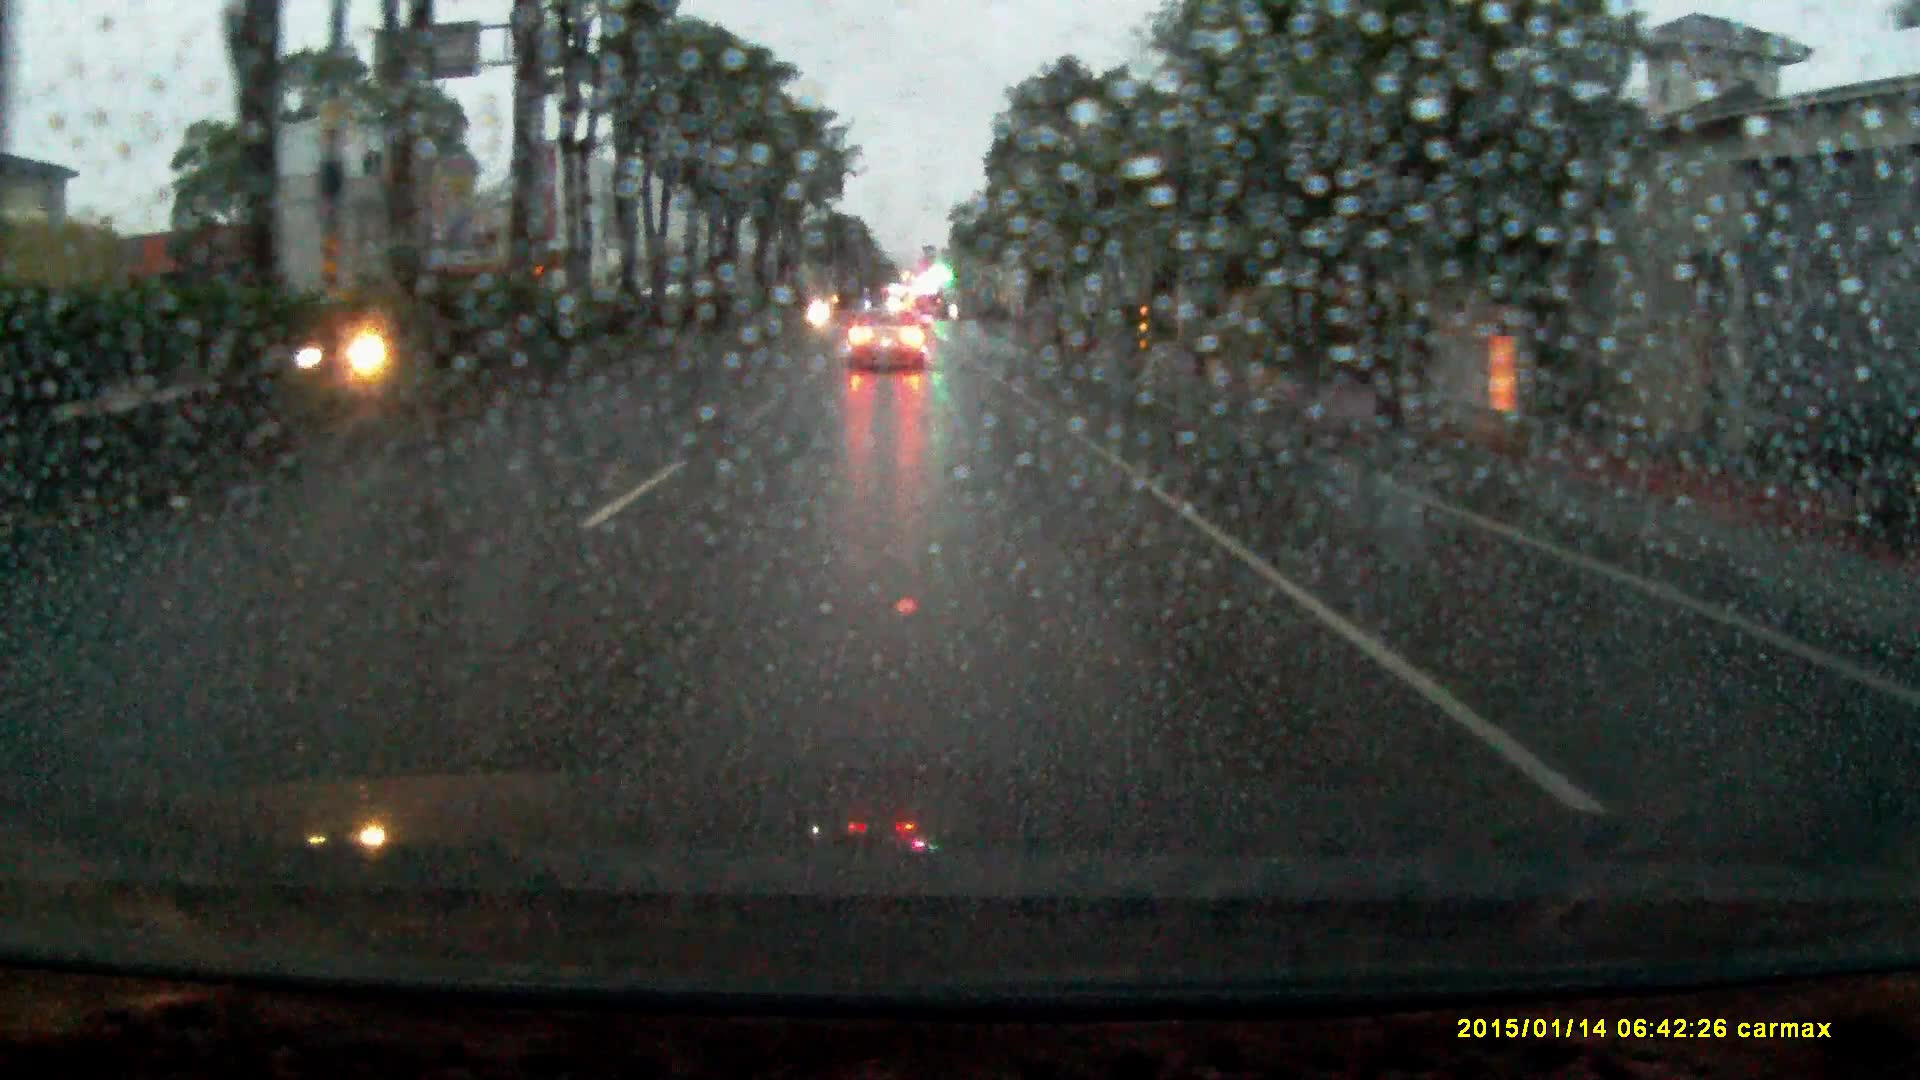vehicle: (3, 207, 154, 386), (847, 302, 930, 369)
